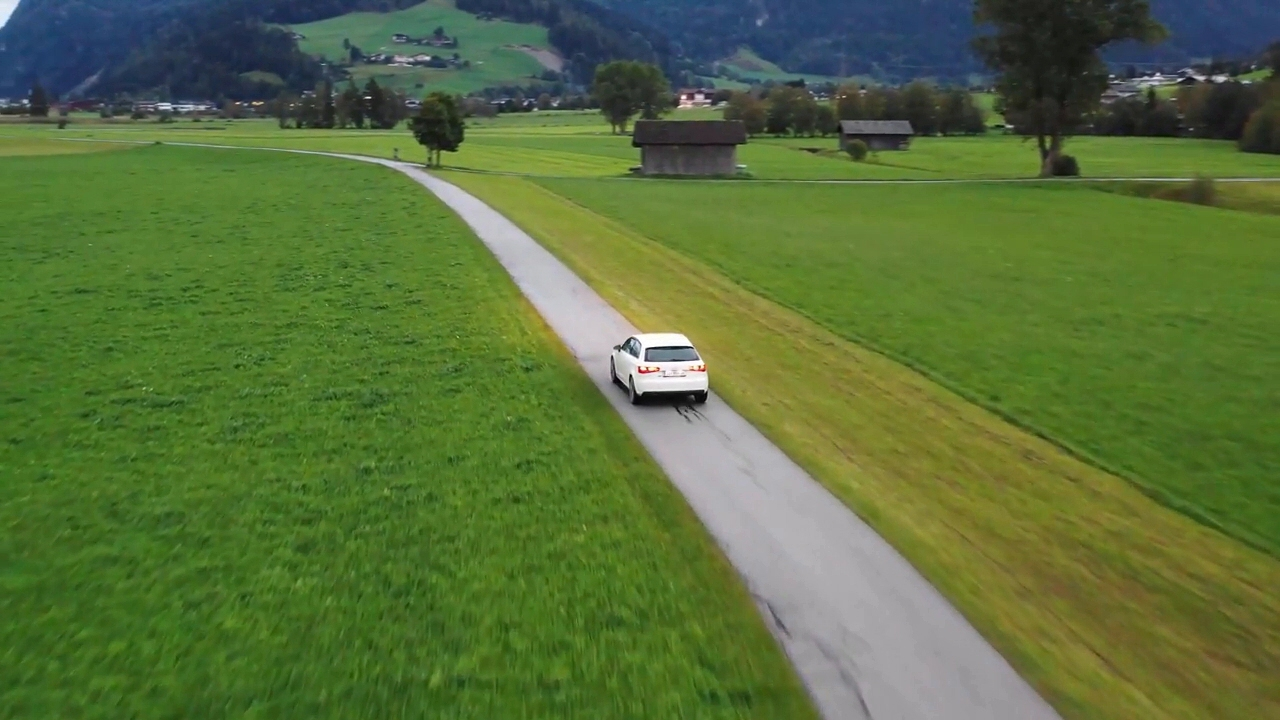araba: (609, 332, 707, 406)
